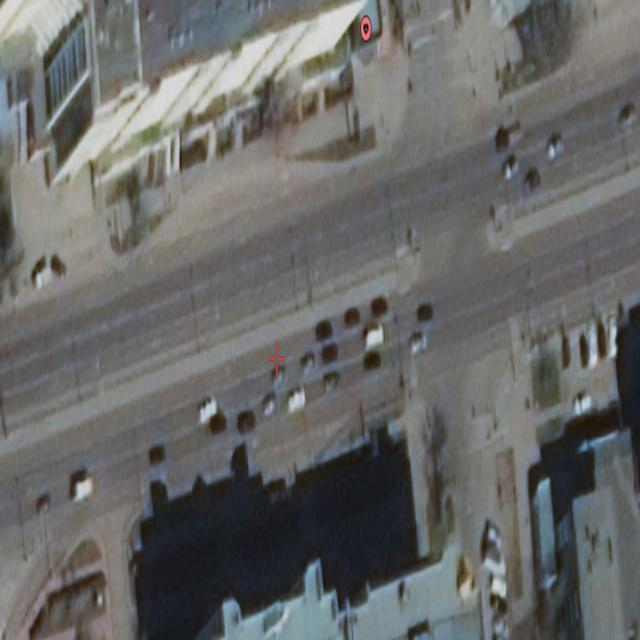road: (0, 0, 640, 640)
